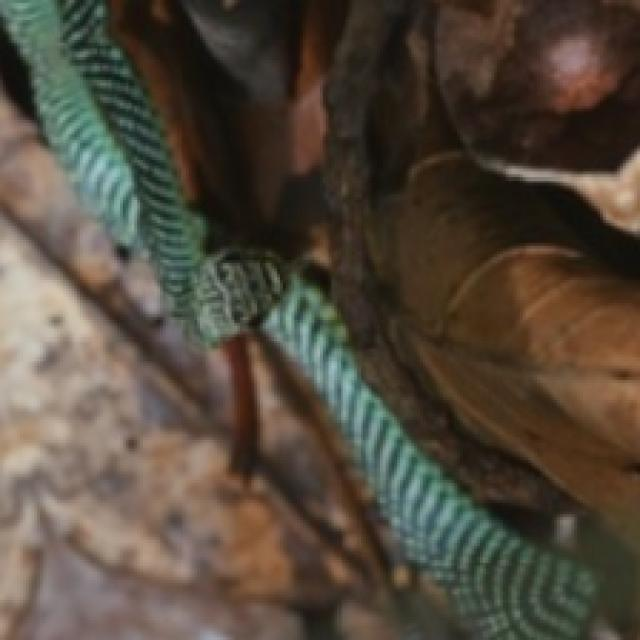paradise tree snake: (109, 0, 637, 637), (349, 414, 434, 554), (280, 283, 346, 397)
